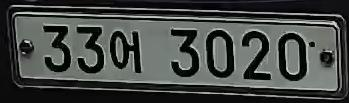0: (202, 26, 239, 81), (275, 29, 309, 83)
2: (236, 27, 274, 84)
3: (164, 25, 203, 79), (38, 21, 75, 75), (73, 24, 108, 76)
어: (106, 28, 146, 76)
